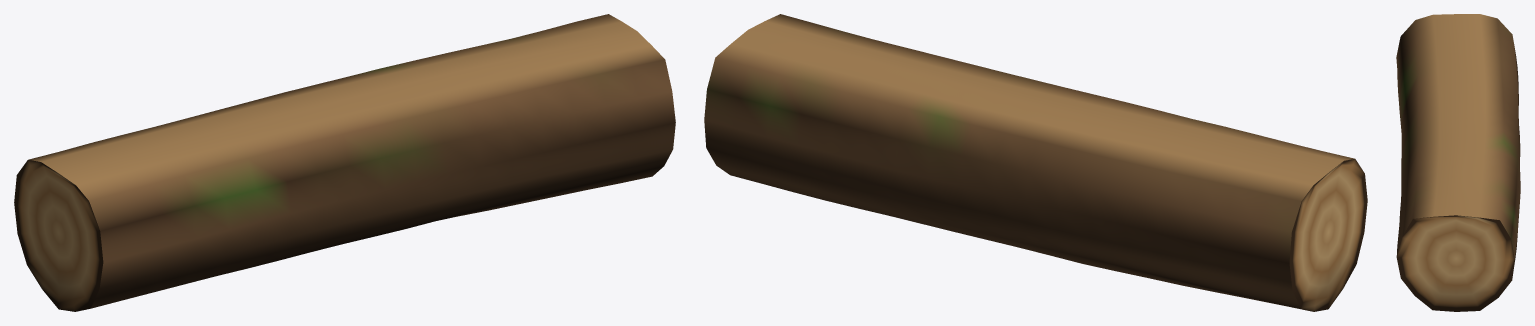
File: log_float.glb
3 views of the same model, side by side, from view 1: azimuth 30°, elevation 25°; view 2: azimuth 150°, elevation 25°; view 3: azimuth 270°, elevation 25° (orthographic). The views are drawn at different scales.
Visible parts, largest first — view 1: log_float; view 2: log_float; view 3: log_float.
Part boxes in pixels (bbox=[...]): log_float: bbox=[14, 14, 675, 311]; log_float: bbox=[704, 14, 1367, 311]; log_float: bbox=[1396, 14, 1520, 311].
Size of the model in its own units: 4.04 by 0.9146 by 1.04.
